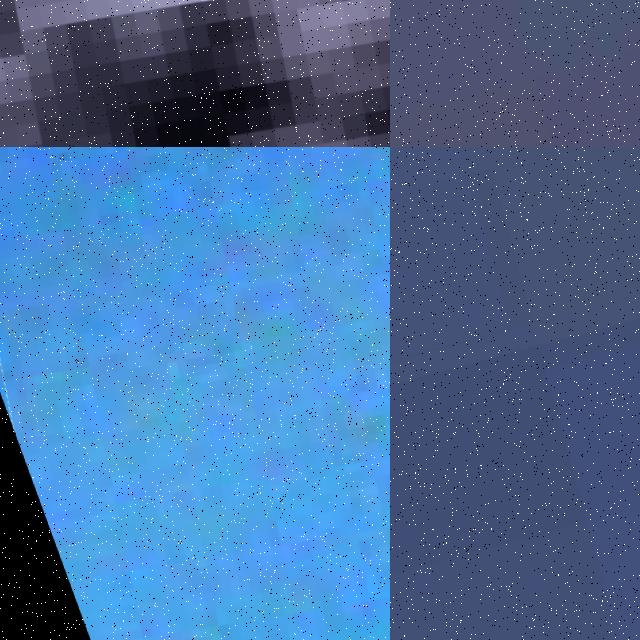0: (0, 0, 390, 147)
drone: (0, 147, 390, 640)
